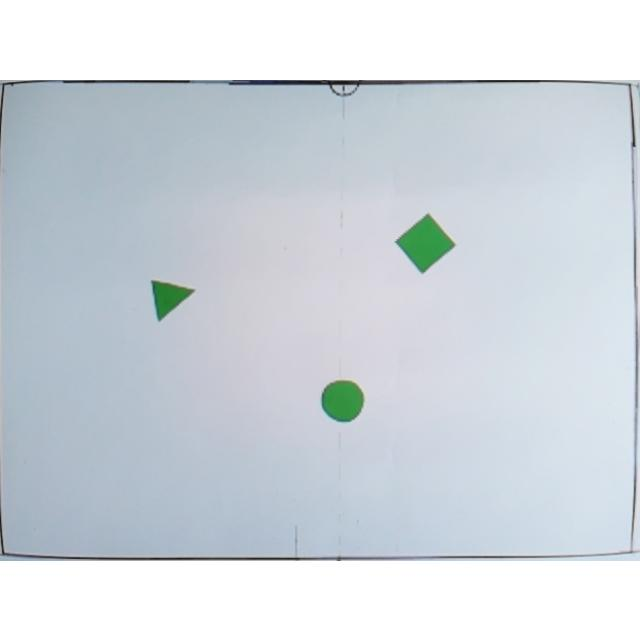greenCircle: (321, 378, 365, 422)
greenSquare: (394, 211, 456, 273)
greenTriangle: (150, 276, 196, 320)
